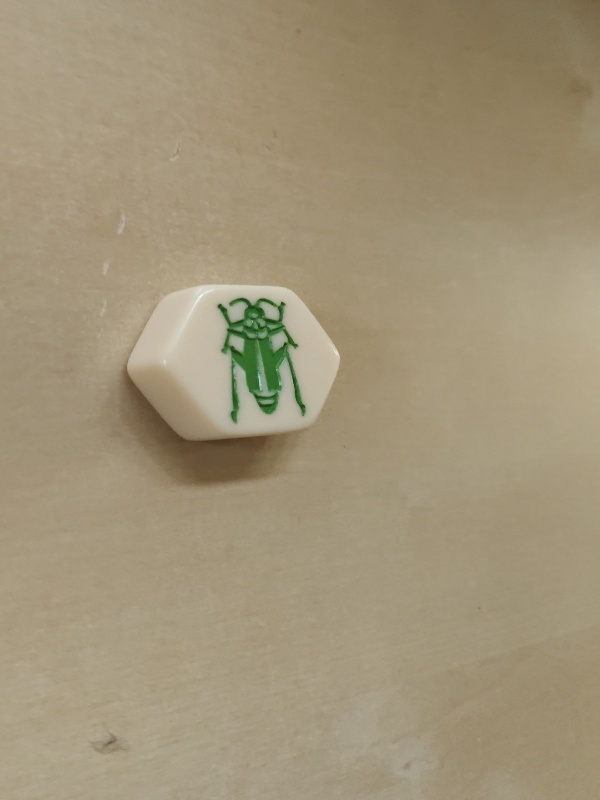white_grasshopper: (127, 285, 340, 435)
